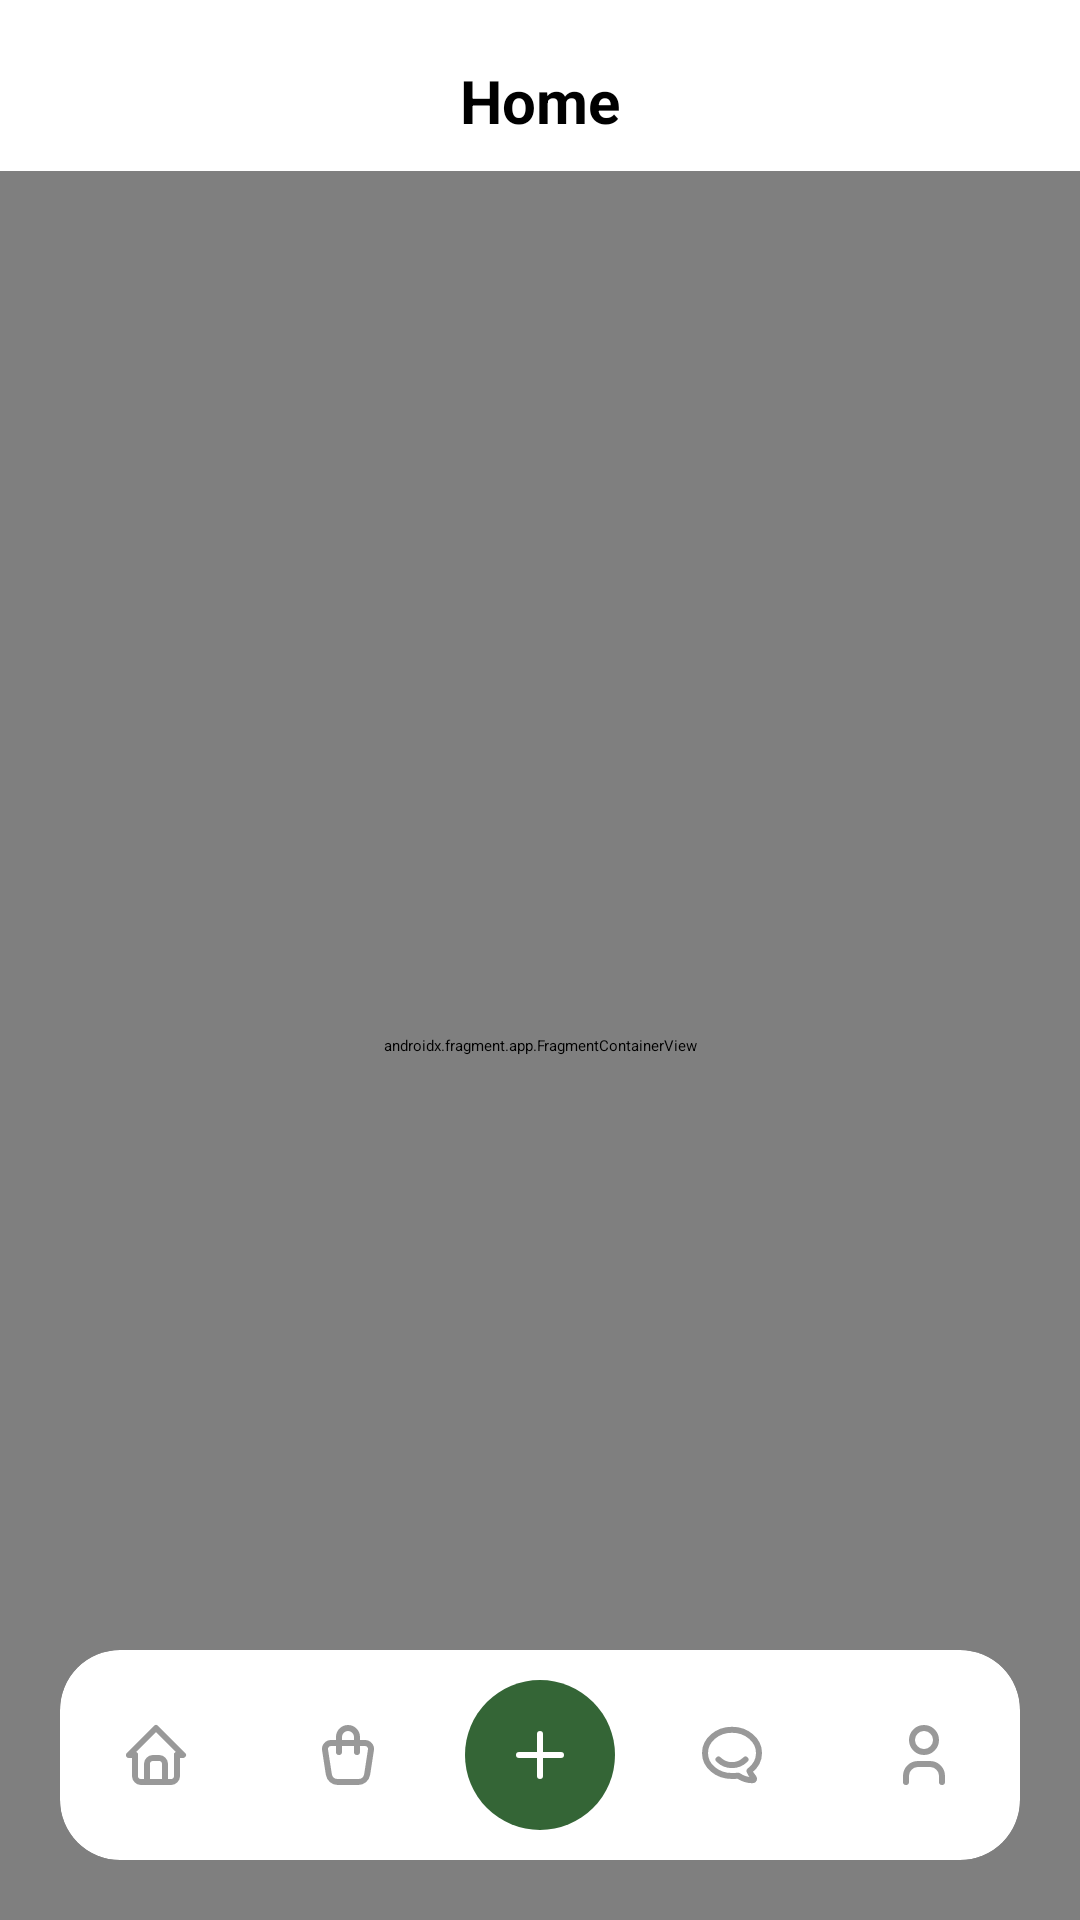

Screen size 1080×1920. Icon name, then its box in pixels as [left=x1, top=y1, right=x2, bottom=y2]:
Acciones: [left=465, top=1680, right=615, bottom=1830]
Home: [left=60, top=1650, right=252, bottom=1860]
Perfil: [left=828, top=1650, right=1020, bottom=1860]
